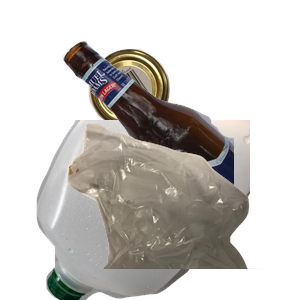glass: (60, 38, 300, 218)
metal: (86, 46, 248, 169)
plastic: (34, 120, 274, 300)
trash: (65, 120, 300, 300)
